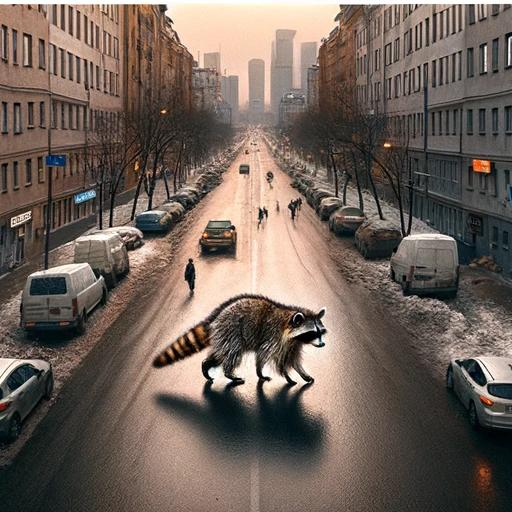raccoon: (149, 285, 332, 398)
